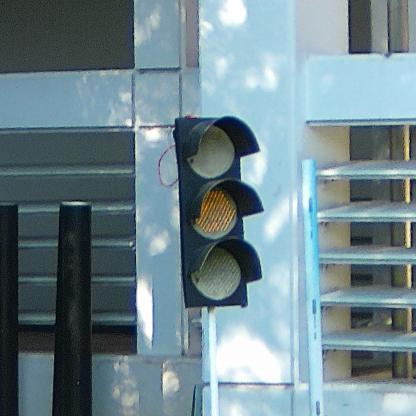yellow: (174, 116, 261, 309)
